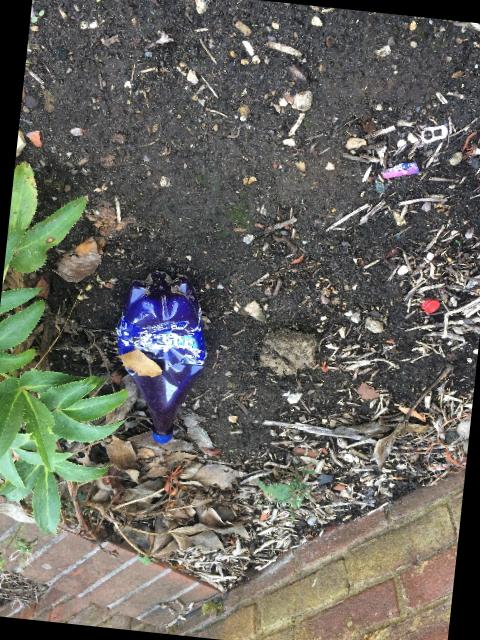plastic: (116, 272, 206, 444)
